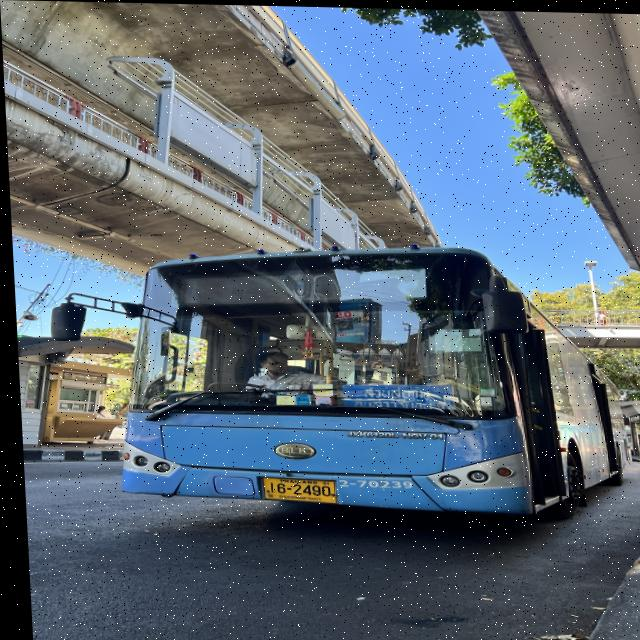BMTA-bus: (116, 246, 623, 516)
Bus Line Number: (337, 265, 422, 298)
Bus Side Number: (330, 476, 411, 488)
Destination Sign: (333, 383, 453, 411)
